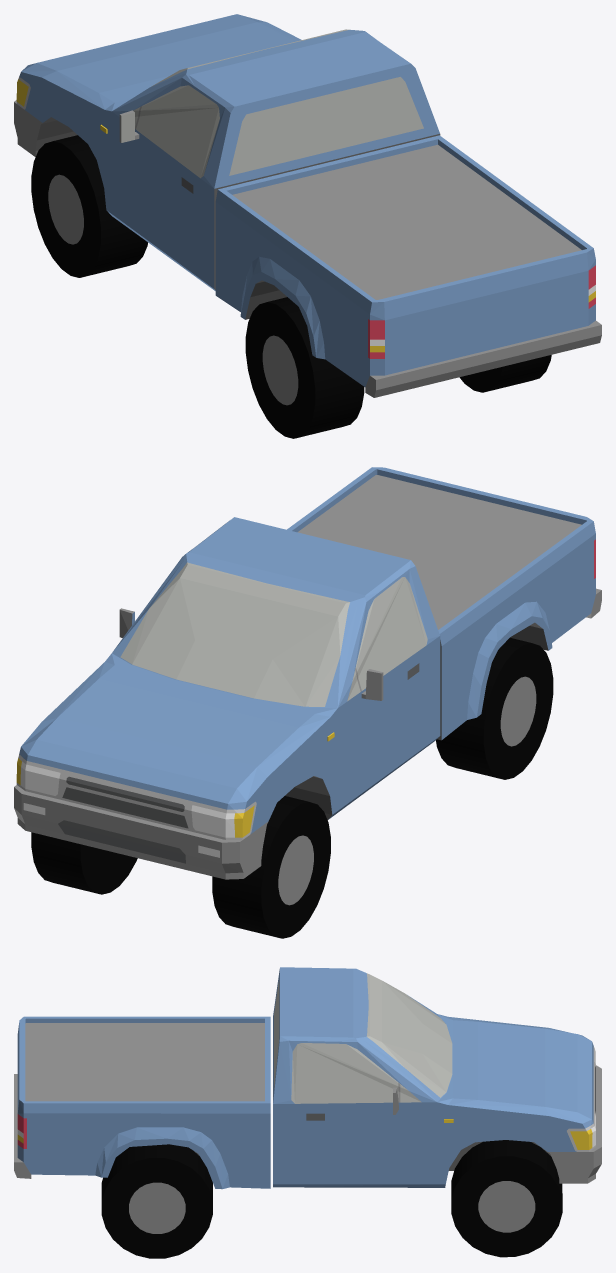
3 renders of one model, top to bottom at view 1: azimuth 30°, elevation 25°; view 2: azimuth 150°, elevation 25°; view 3: azimuth 270°, elevation 25°, orthographic. The views are drawn at different scales.
Parts seen in each view (by area): view 1: Mesh1 Model, Mesh5 Model, Mesh4 Model, Mesh2 Model; view 2: Mesh1 Model, Mesh4 Model, Mesh5 Model, Mesh3 Model; view 3: Mesh1 Model, Mesh3 Model, Mesh2 Model.
Part boxes in pixels (x1,y1,x2,y2): Mesh1 Model: (14, 14, 601, 397); Mesh5 Model: (245, 297, 364, 438); Mesh4 Model: (31, 135, 147, 277); Mesh2 Model: (459, 355, 551, 392); Mesh1 Model: (14, 467, 601, 879); Mesh4 Model: (212, 796, 330, 938); Mesh5 Model: (436, 637, 553, 779); Mesh3 Model: (31, 832, 137, 894); Mesh1 Model: (14, 967, 601, 1189); Mesh3 Model: (451, 1140, 562, 1257); Mesh2 Model: (101, 1144, 212, 1258).
Size of the model in its own units: 134 by 129 by 326.
